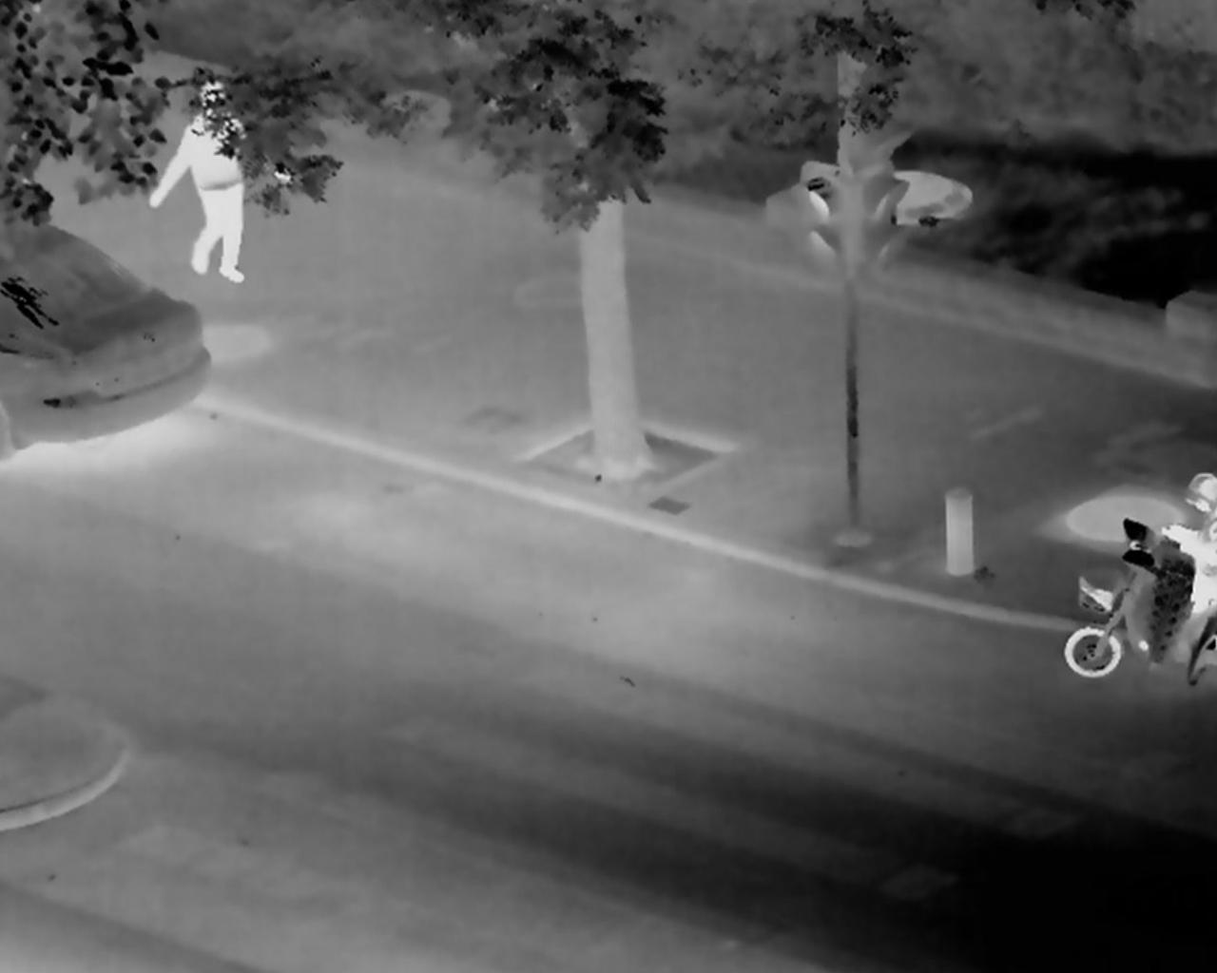person: (161, 86, 276, 302), (1169, 454, 1217, 647)
